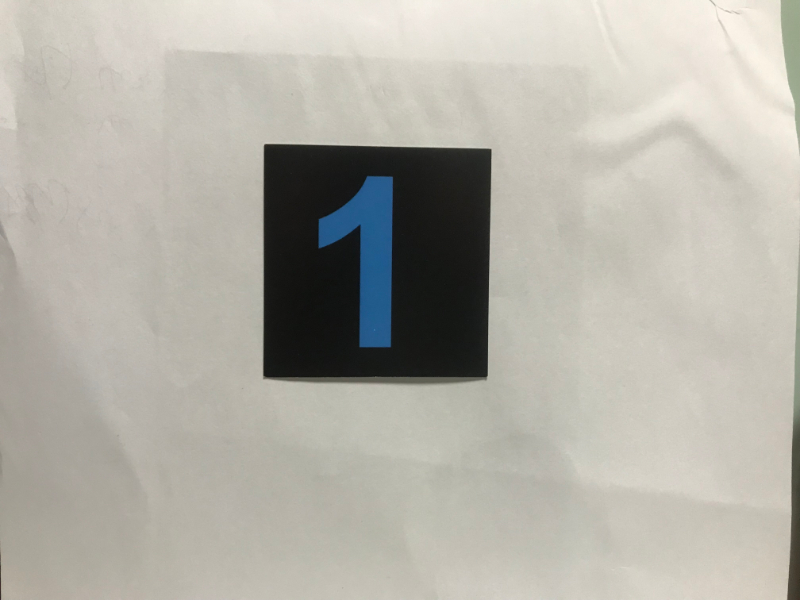One-6: (269, 151, 483, 371)
